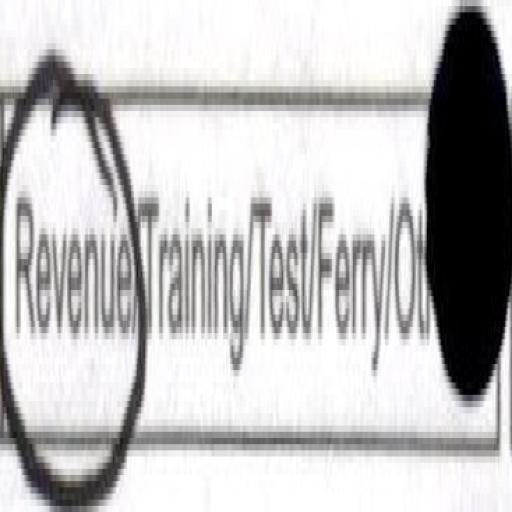check: (1, 55, 133, 512)
